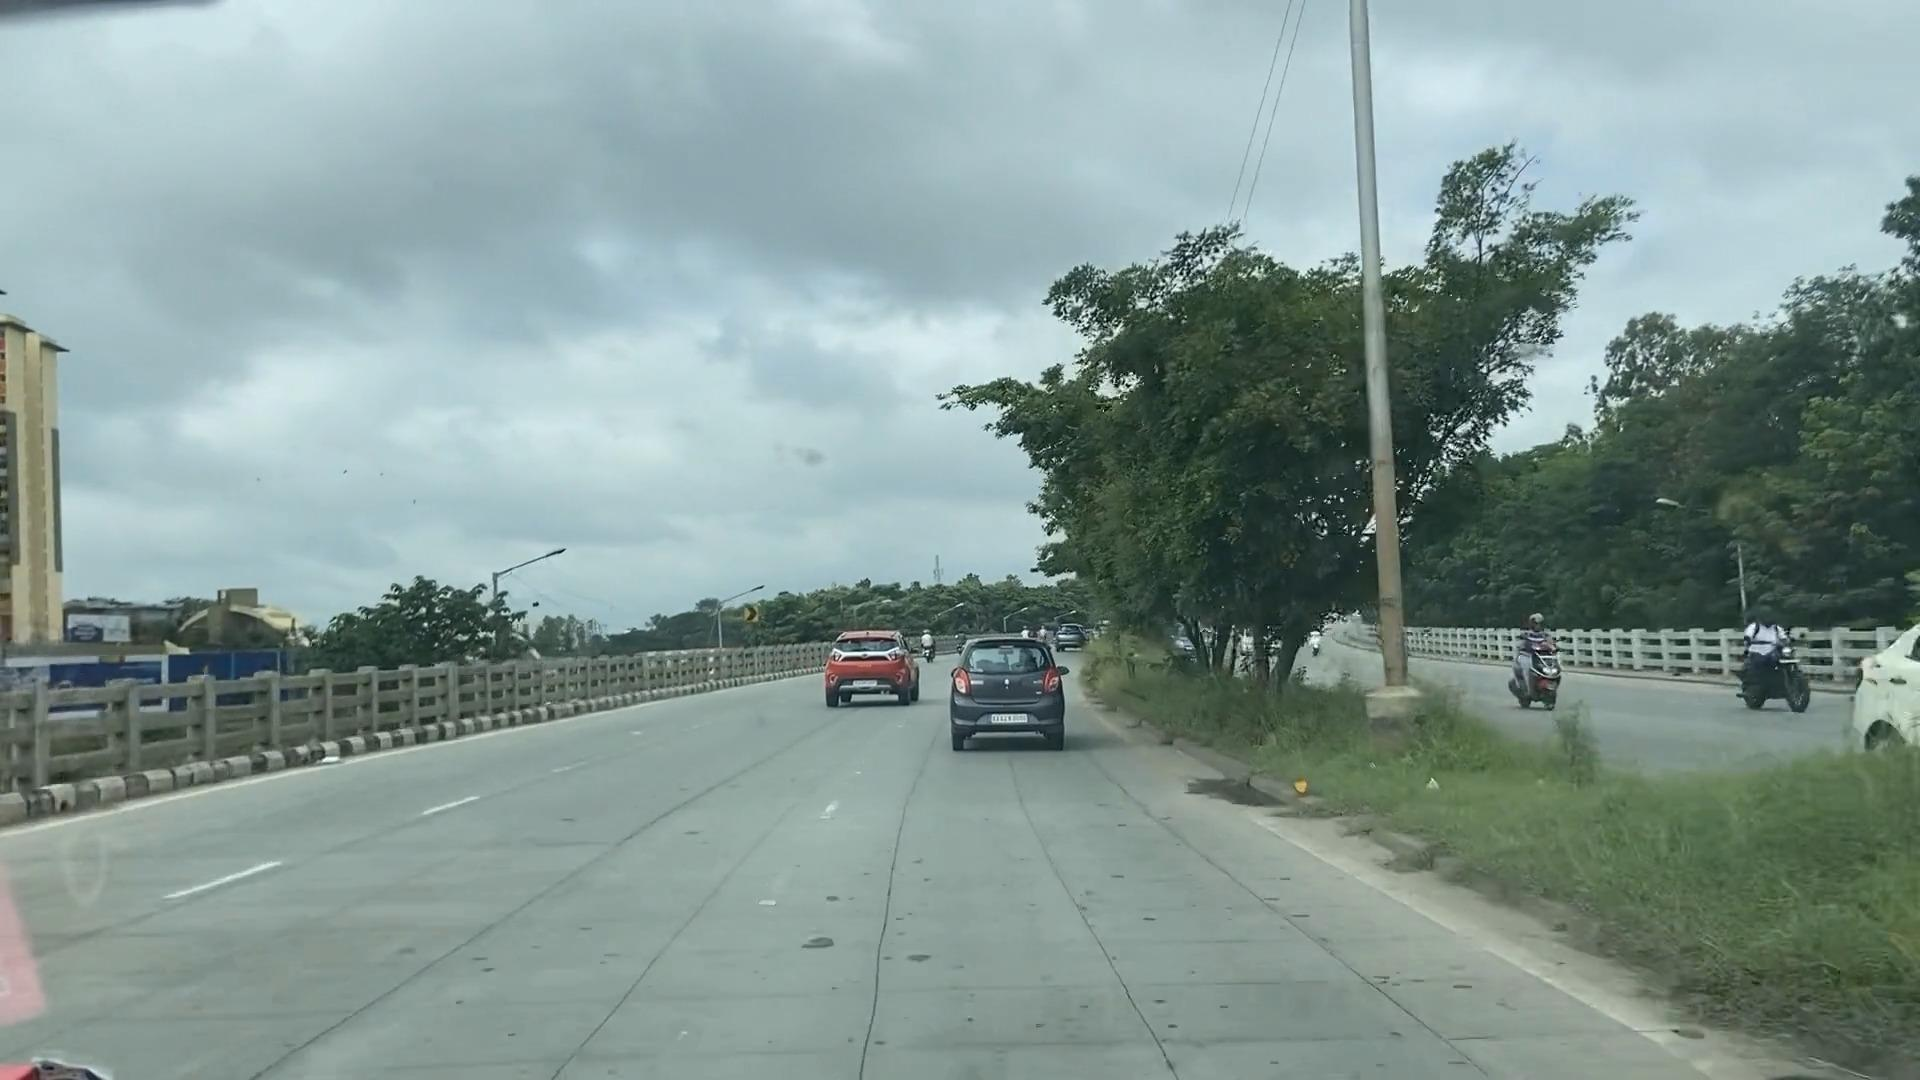LMV: (957, 636, 1047, 733), (829, 626, 914, 699)
